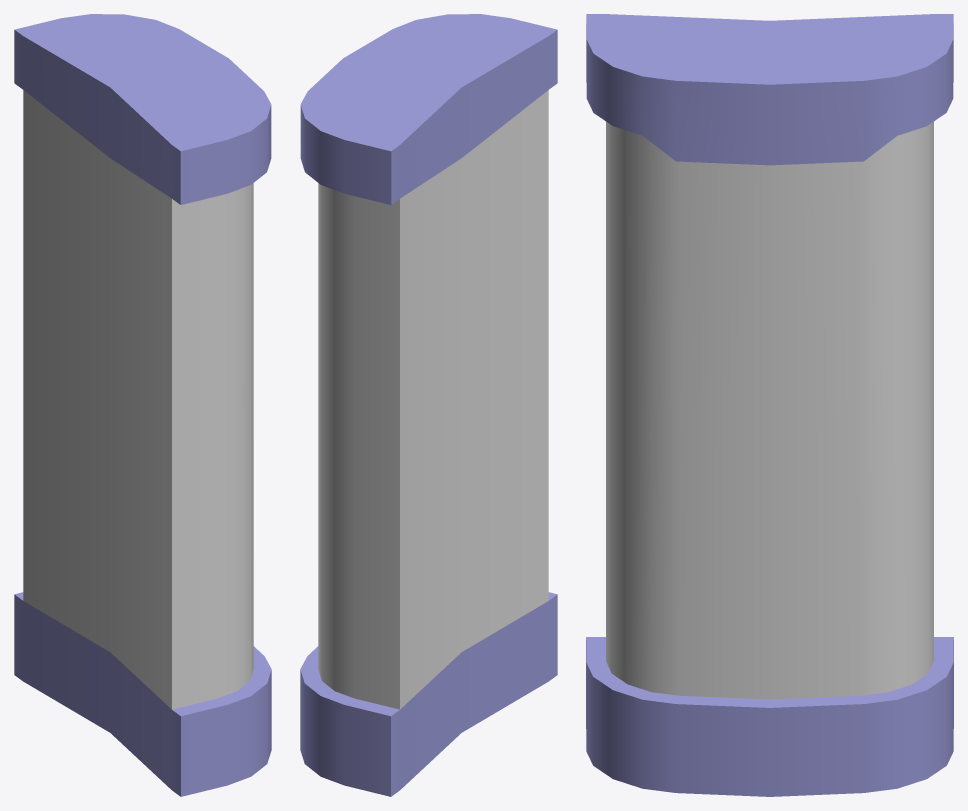
3 views of the same model, side by side, from view 1: azimuth 30°, elevation 25°; view 2: azimuth 150°, elevation 25°; view 3: azimuth 270°, elevation 25° (orthographic). The views are drawn at different scales.
Parts seen in each view (by area): view 1: Cube.152; view 2: Cube.152; view 3: Cube.152.
Boxes of the visible parts, x1,y1,x2,y2 form: Cube.152: (14, 14, 271, 796); Cube.152: (300, 14, 557, 796); Cube.152: (586, 14, 953, 796).
Bounding box in the file's own units: 12.04 × 56.39 × 26.39.
